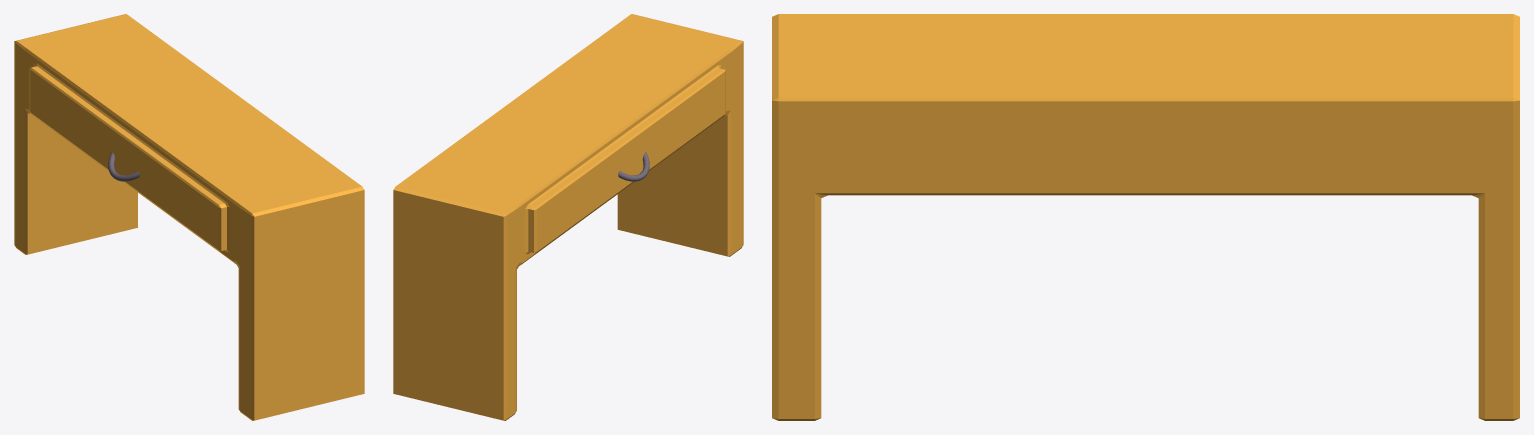
File: wopde_gabinet.fbx
3 renders of one model, left to right at view 1: azimuth 30°, elevation 25°; view 2: azimuth 150°, elevation 25°; view 3: azimuth 270°, elevation 25°, orthographic. The views are drawn at different scales.
Parts seen in each view (by area): view 1: Wooden gabinet; view 2: Wooden gabinet; view 3: Wooden gabinet.
Part boxes in pixels (<box>): Wooden gabinet: <box>14,14,364,420</box>; Wooden gabinet: <box>393,14,743,420</box>; Wooden gabinet: <box>772,14,1519,420</box>.
Size of the model in its own units: 34.32 by 51.47 by 108.
